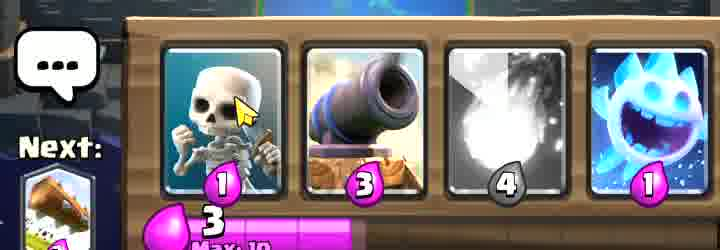cannon: (312, 49, 427, 197)
ice-spirit: (595, 45, 710, 200)
log: (24, 168, 92, 250)
